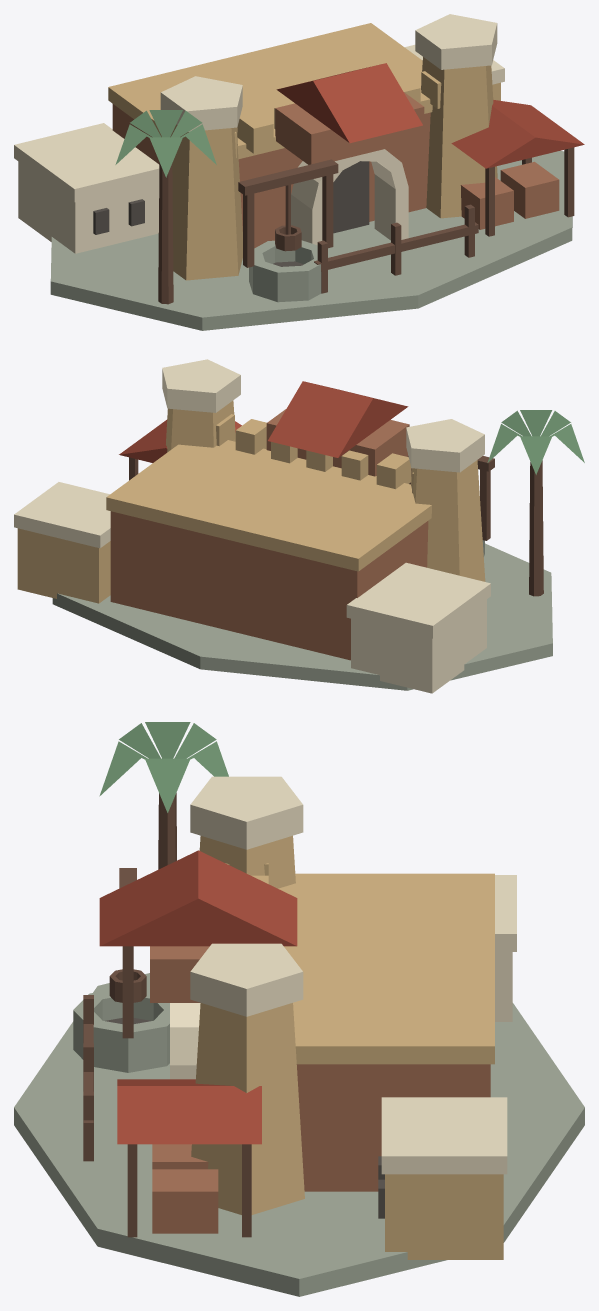
File: panti.glb
3 views of the same model, one above another, from view 1: azimuth 30°, elevation 25°; view 2: azimuth 150°, elevation 25°; view 3: azimuth 270°, elevation 25° (orthographic). The views are drawn at different scales.
Parts seen in each view (by area): view 1: panti_stone, panti_sandstone, panti_cream, panti_brick, panti_roof_red, panti_dark_wood, panti_deep_shadow, panti_foliage; view 2: panti_sandstone, panti_brick, panti_cream, panti_stone, panti_roof_red, panti_dark_wood, panti_foliage; view 3: panti_sandstone, panti_stone, panti_cream, panti_roof_red, panti_brick, panti_dark_wood, panti_foliage.
Part boxes in pixels (x1,y1,x2,y2): panti_stone: [50, 150, 572, 330]; panti_sandstone: [108, 23, 500, 280]; panti_cream: [14, 14, 504, 253]; panti_brick: [112, 92, 559, 248]; panti_roof_red: [276, 63, 584, 168]; panti_dark_wood: [158, 147, 574, 304]; panti_deep_shadow: [93, 161, 369, 266]; panti_foliage: [115, 110, 216, 177]; panti_sandstone: [17, 400, 485, 603]; panti_brick: [110, 409, 428, 660]; panti_cream: [14, 359, 490, 693]; panti_stone: [52, 540, 552, 690]; panti_roof_red: [119, 381, 408, 462]; panti_dark_wood: [129, 456, 543, 596]; panti_foliage: [487, 410, 584, 474]; panti_sandstone: [191, 835, 503, 1259]; panti_stone: [14, 973, 584, 1296]; panti_cream: [170, 776, 516, 1174]; panti_roof_red: [99, 850, 297, 1144]; panti_brick: [150, 946, 490, 1233]; panti_dark_wood: [83, 793, 251, 1237]; panti_foliage: [99, 722, 228, 812].
Bounding box in the file's own units: 2.1 × 0.7322 × 1.48.
